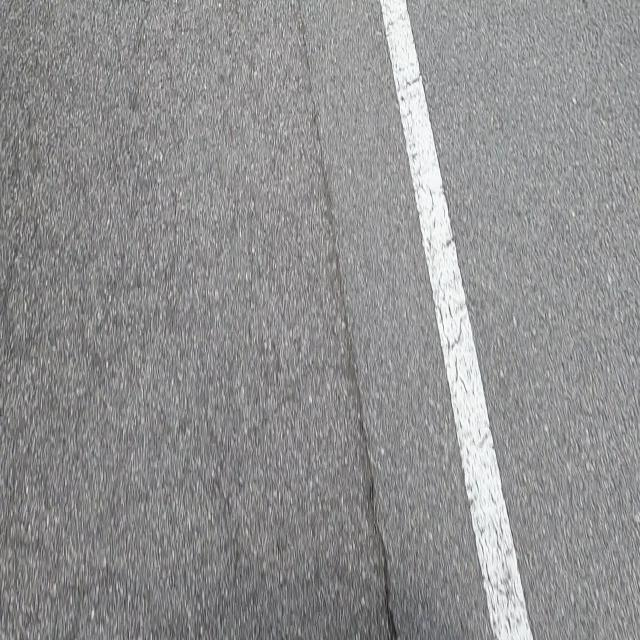Retak-Memanjang: (296, 1, 399, 640)
